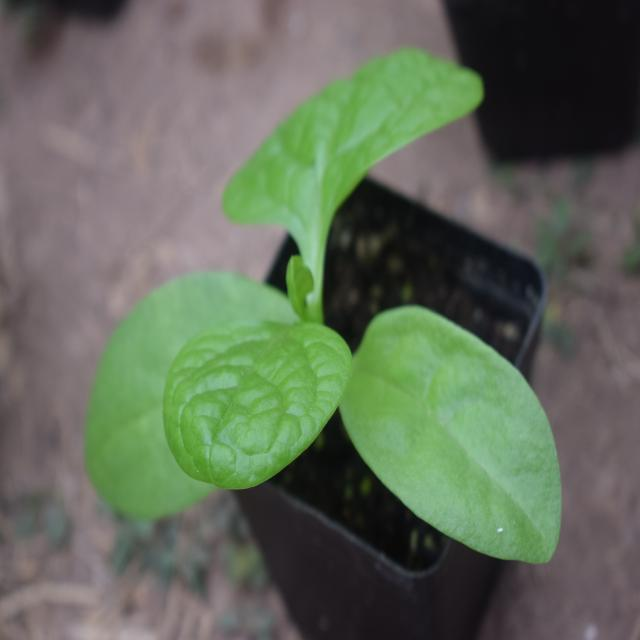Ceylon spinach: (79, 36, 576, 588)
